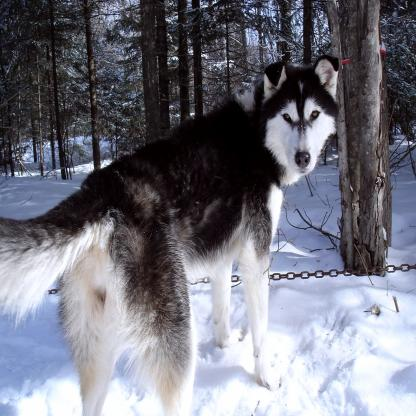dog: (0, 53, 343, 413)
